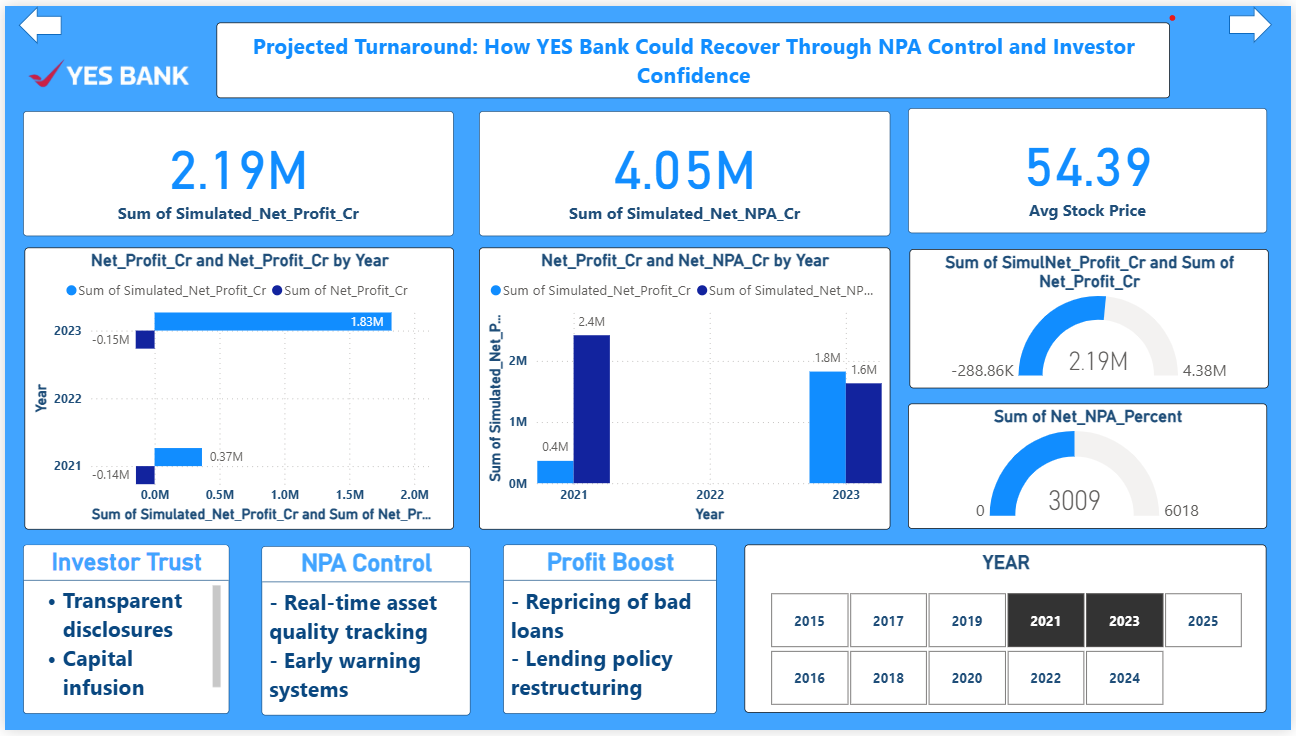

What the dashboard file says about the page in this screenshot:
{"tool":"powerbi","page":{"name":"Recovery Simulation & Strategy","canvas":[1280,720],"ordinal":4},"visuals":[{"type":"clusteredBarChart","title":"Net_Profit_Cr and  Net_Profit_Cr by Year","fields":{"Category":["Bank Data.Year"],"Y":["Sum(Bank Data.Simulated_Net_Profit_Cr)","Sum(Bank Data.Net_Profit_Cr)"]},"box":[19.5,240.3,427.3,280.5],"z":0},{"type":"clusteredColumnChart","title":"Net_Profit_Cr and Net_NPA_Cr by Year","fields":{"Category":["Bank Data.Year"],"Y":["Sum(Bank Data.Simulated_Net_Profit_Cr)","Sum(Bank Data.Simulated_Net_NPA_Cr)"]},"box":[471.4,240.3,409.1,280.5],"z":1000},{"type":"card","fields":{"Values":["Sum(Bank Data.Simulated_Net_Profit_Cr)"]},"box":[18.2,105.2,428.6,124.7],"z":2000},{"type":"card","fields":{"Values":["Sum(Bank Data.Simulated_Net_NPA_Cr 1)"]},"box":[471.4,103.9,409.1,124.7],"z":3000},{"type":"textbox","title":"Profit Boost","box":[494.8,536.4,213,168.8],"z":4000},{"type":"textbox","title":" NPA Control","box":[254.5,537.7,207.8,168.8],"z":5000},{"type":"textbox","title":" Investor Trust","box":[18.2,536.4,205.2,168.8],"z":6000},{"type":"slicer","title":"YEAR","fields":{"Values":["Bank Data.Year"]},"box":[736.4,536.4,519.5,167.5],"z":7000},{"type":"textbox","title":"Projected Turnaround: How YES Bank Could Recover Through NPA Control and Investor Confidence","box":[210.3,16.2,948.5,75],"z":8000},{"type":"gauge","title":"Sum of SimulNet_Profit_Cr and Sum of Net_Profit_Cr","fields":{"Y":["Sum(Bank Data.Simulated_Net_Profit_Cr)"],"MinValue":["Sum(Bank Data.Net_Profit_Cr)"]},"box":[900,241.6,357.1,139],"z":10000},{"type":"card","fields":{"Values":["Bank Data.Avg Stock Price"]},"box":[898.7,101.3,357.1,124.7],"z":11000},{"type":"gauge","fields":{"Y":["Sum(Bank Data.Net_NPA_Percent)"]},"box":[898.7,396.1,357.1,124.7],"z":12000},{"type":"image","box":[0,0,210.5,134.9],"z":13000},{"type":"shape","box":[14,0,43,38.4],"z":14000},{"type":"shape","box":[1217.4,0,43,37.2],"z":15000}]}

Visuals, with their boxes in screenshot pixels (x1, y1, x2, y2), scaled from the page's 1280x720 canvas onto the 1296x736 screenshot:
"Net_Profit_Cr and  Net_Profit_Cr by Year" clusteredBarChart: select_region(20, 246, 452, 532)
"Net_Profit_Cr and Net_NPA_Cr by Year" clusteredColumnChart: select_region(477, 246, 892, 532)
card - Sum(Bank Data.Simulated_Net_Profit_Cr): select_region(18, 108, 452, 235)
card - Sum(Bank Data.Simulated_Net_NPA_Cr 1): select_region(477, 106, 892, 234)
"Profit Boost" textbox: select_region(501, 548, 717, 721)
" NPA Control" textbox: select_region(258, 550, 468, 722)
" Investor Trust" textbox: select_region(18, 548, 226, 721)
"YEAR" slicer: select_region(746, 548, 1272, 720)
"Projected Turnaround: How YES Bank Could Recover Through NPA Control and Investor Confidence" textbox: select_region(213, 17, 1173, 93)
"Sum of SimulNet_Profit_Cr and Sum of Net_Profit_Cr" gauge: select_region(911, 247, 1273, 389)
card - Bank Data.Avg Stock Price: select_region(910, 104, 1271, 231)
gauge - Sum(Bank Data.Net_NPA_Percent): select_region(910, 405, 1271, 532)
image: select_region(0, 0, 213, 138)
shape: select_region(14, 0, 58, 39)
shape: select_region(1233, 0, 1276, 38)
